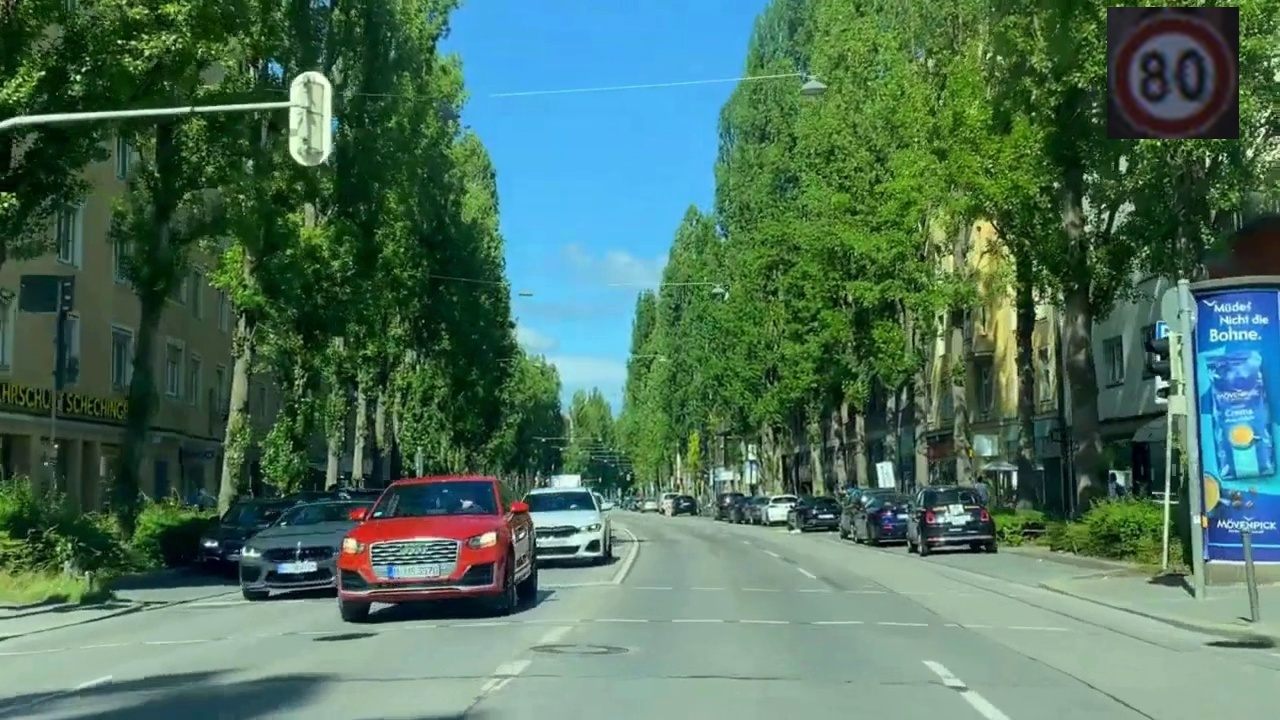Speed 80: (1107, 7, 1239, 139)
